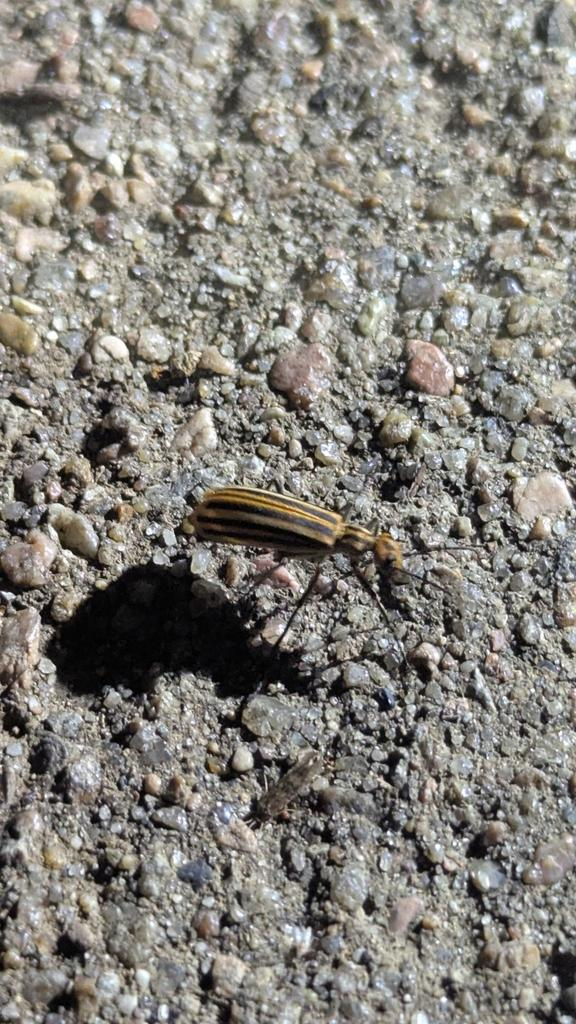blister_beetle: (157, 427, 480, 714)
